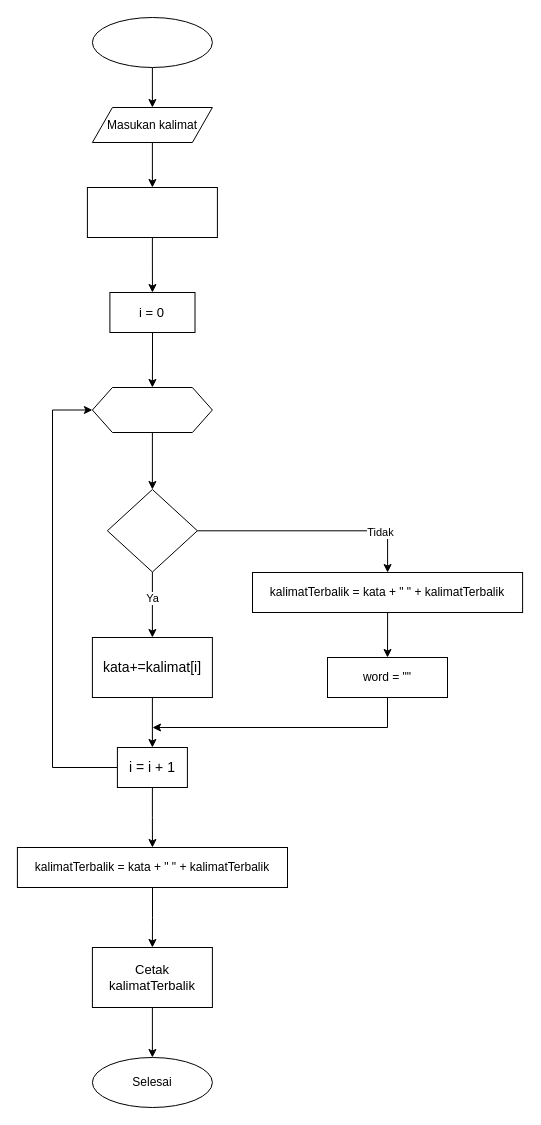
This 541x1125 diagram has some shape labels left out. Here are the shapes that lost their labels. From the top down, the centre of each, then its label:
(x=151, y=42): Mulai
(x=151, y=212): kata = "" kalimatTerbalik = ""
(x=151, y=409): i < kalimat.length
(x=151, y=530): kalimat[i] != " " ?
